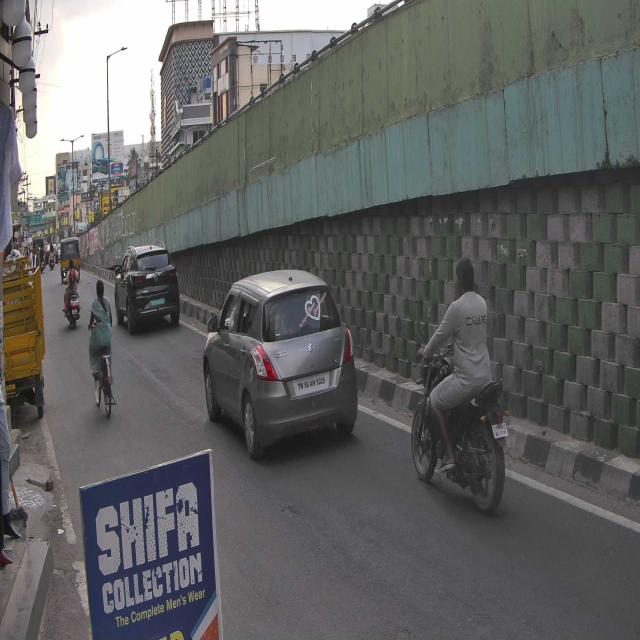single_rider: (410, 255, 510, 516)
